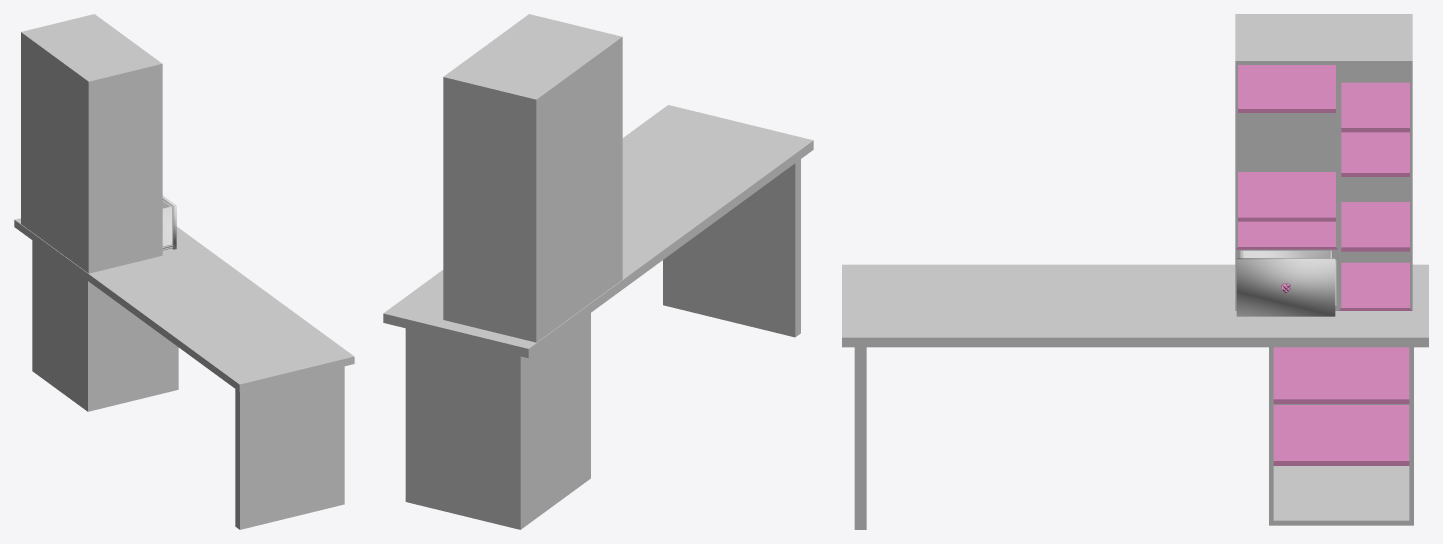
Rendered from Desk_Mirror.fbx.
3 renders of one model, left to right at view 1: azimuth 30°, elevation 25°; view 2: azimuth 150°, elevation 25°; view 3: azimuth 270°, elevation 25°, orthographic. The views are drawn at different scales.
Parts seen in each view (by area): view 1: desk; view 2: desk; view 3: desk.
Boxes of the visible parts, x1=… form: desk: x1=14, y1=14, x2=354, y2=529; desk: x1=383, y1=14, x2=813, y2=529; desk: x1=842, y1=14, x2=1428, y2=529.
Size of the model in its own units: 7.29 by 20.75 by 24.73.
